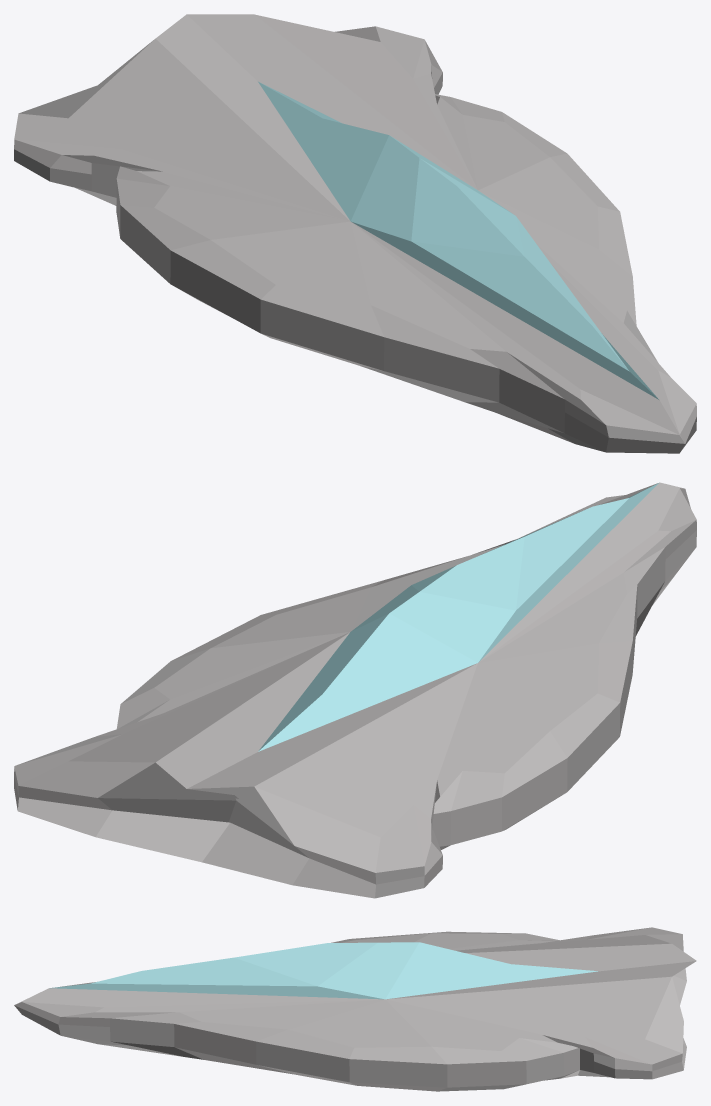
The model's file is spcaeship.fbx.
The picture shows the model from 3 angles, top to bottom: view 1: azimuth 30°, elevation 25°; view 2: azimuth 150°, elevation 25°; view 3: azimuth 270°, elevation 25°; orthographic projection. The views are drawn at different scales.
Visible parts, largest first — view 1: Cube; view 2: Cube; view 3: Cube.
Part boxes in pixels (x1,y1,x2,y2): Cube: [14, 14, 696, 453]; Cube: [14, 482, 696, 898]; Cube: [14, 927, 696, 1091].
Size of the model in its own units: 249 by 78.52 by 524.
